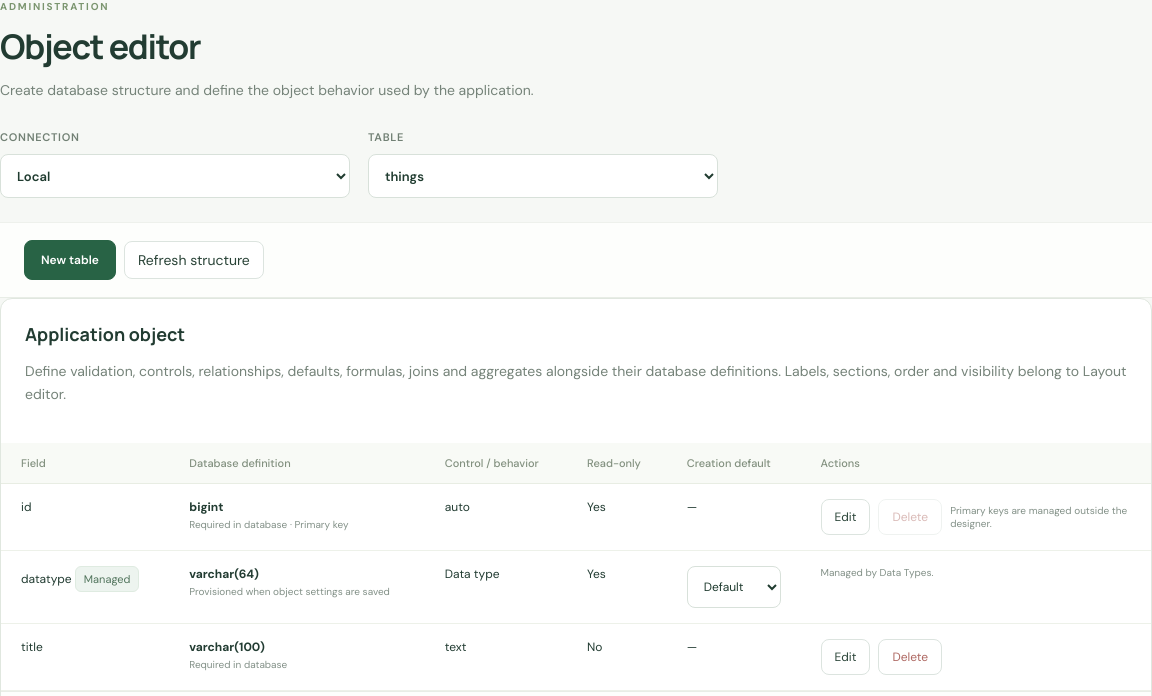
Scenario: Object field workflow › does not derive database nullability from legacy object required metadata
Expected: the text "varchar(100)" is shown, x1=189 y1=639 x2=265 y2=655
Click the button with aria-label "Edit field title" at (845, 657), box x1=820 y1=639 x2=870 y2=675
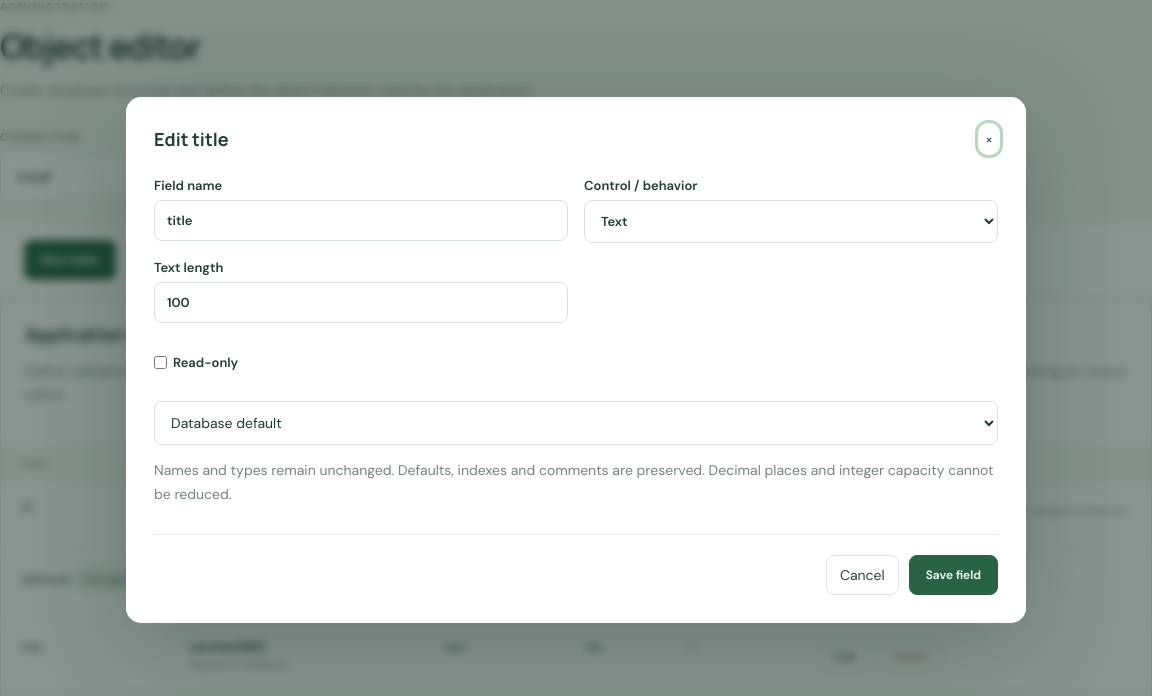
Click the button "Save field" at (953, 575), box x1=909 y1=555 x2=998 y2=595
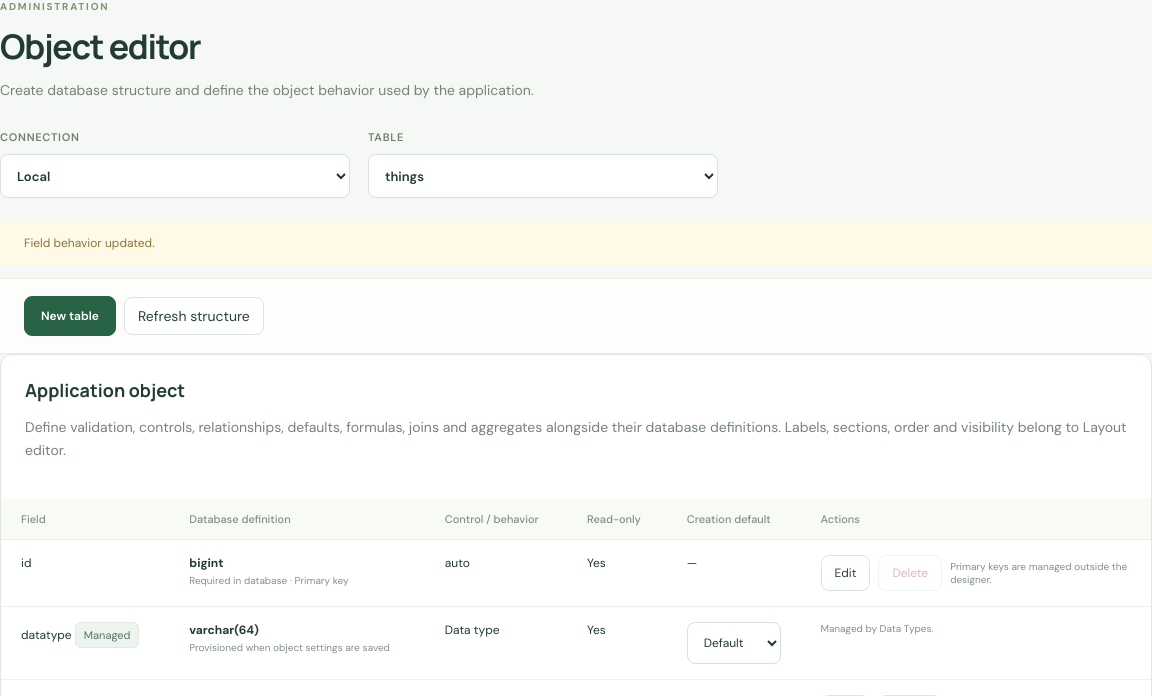
Result: the dialog is gone
